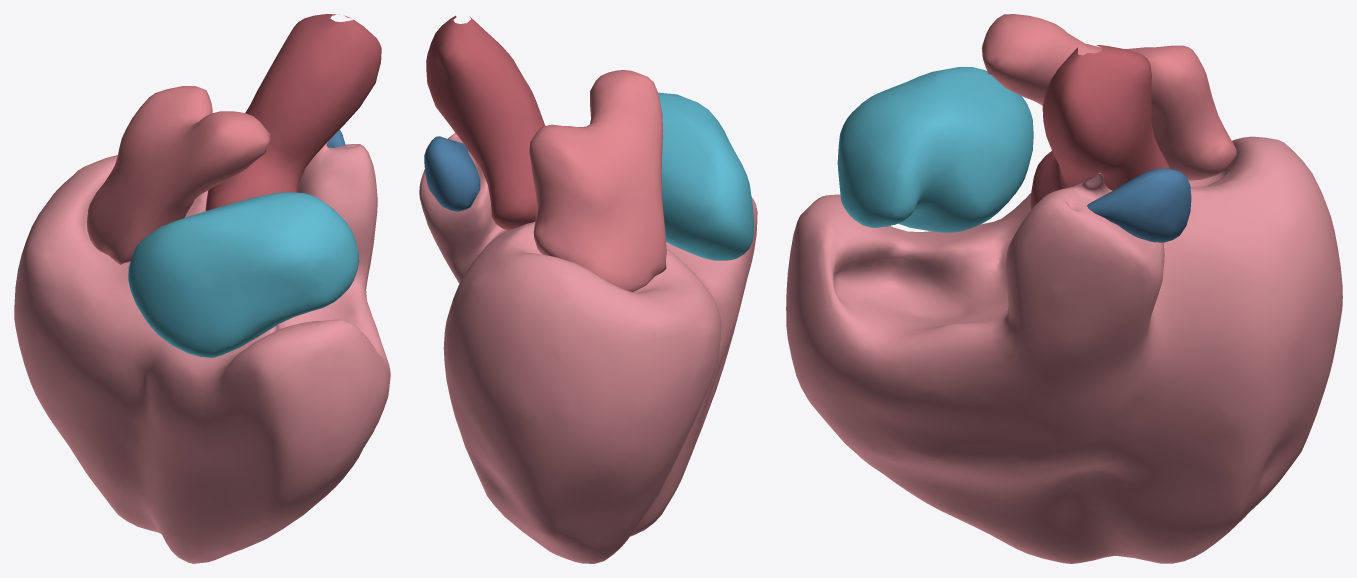
Rendered from frame_46.glb.
The picture shows the model from 3 angles, left to right: view 1: azimuth 30°, elevation 25°; view 2: azimuth 150°, elevation 25°; view 3: azimuth 270°, elevation 25°; orthographic projection. The views are drawn at different scales.
Visible parts, largest first — view 1: Renderer Node; view 2: Renderer Node; view 3: Renderer Node.
Boxes of the visible parts, box(x1,y1,x2,y2) form: Renderer Node: box(14, 14, 390, 563); Renderer Node: box(419, 15, 757, 563); Renderer Node: box(786, 14, 1342, 563).
Bounding box in the file's own units: 107 × 164 × 136.
